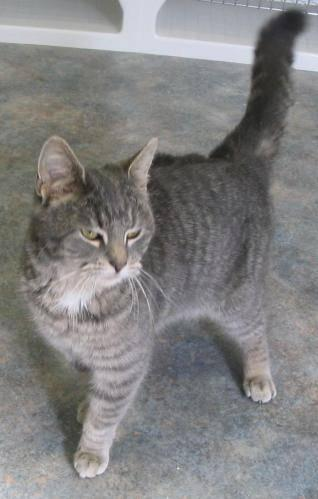cat: (22, 10, 305, 477)
